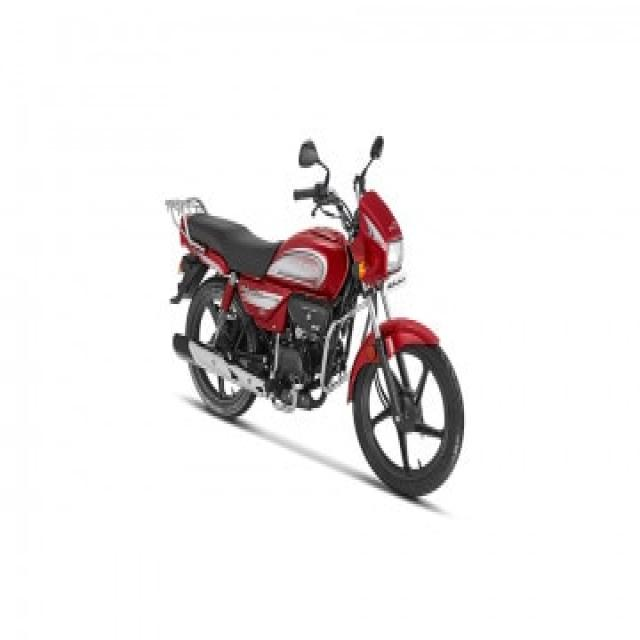MOTORCYCLE: (170, 172, 464, 503)
